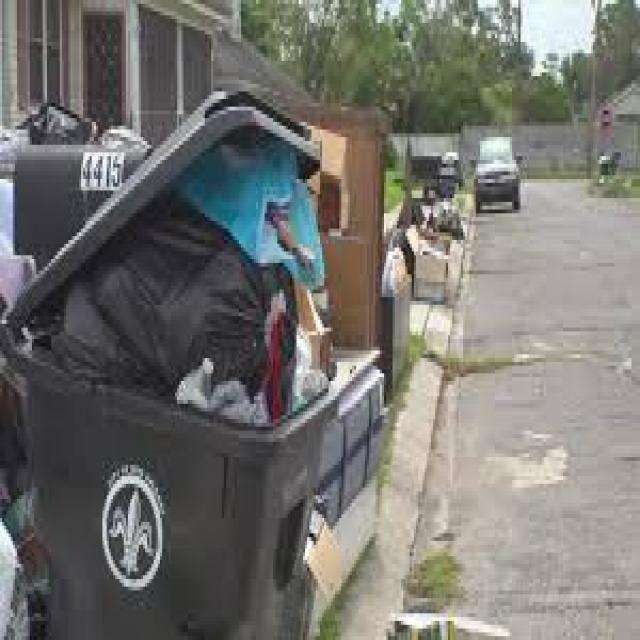garbage: (0, 99, 320, 415), (371, 190, 467, 408)
